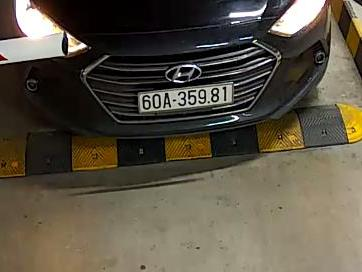number: (137, 85, 238, 112)
